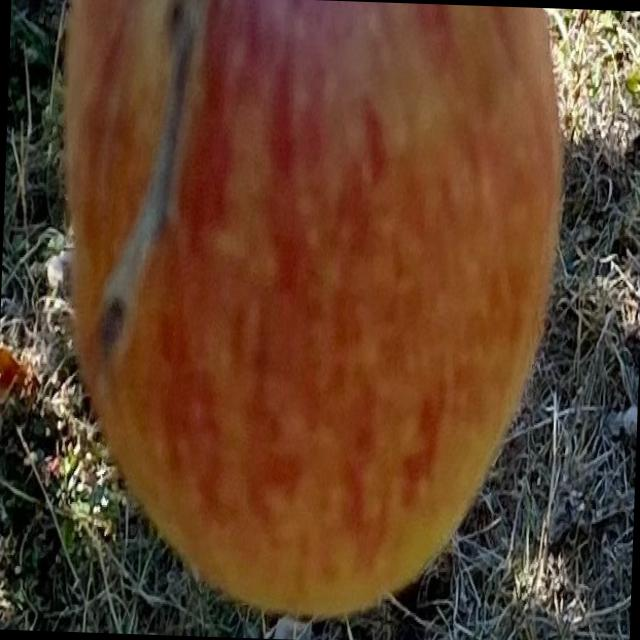Apples: (45, 0, 568, 622)
